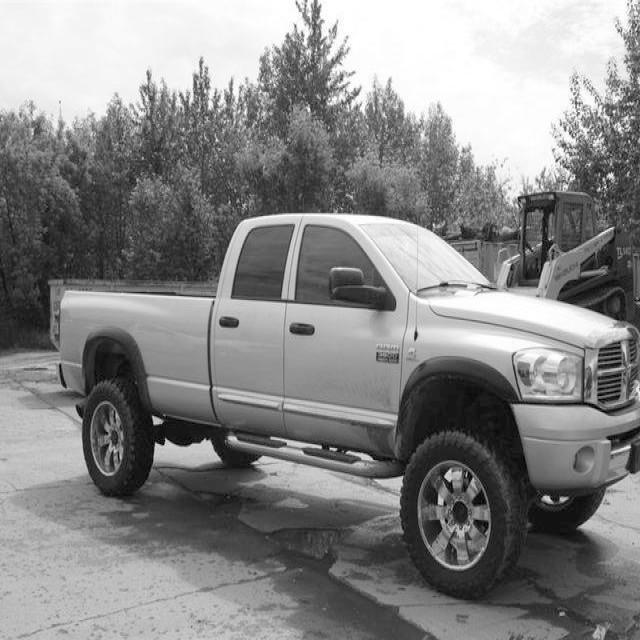car: (54, 211, 639, 600)
